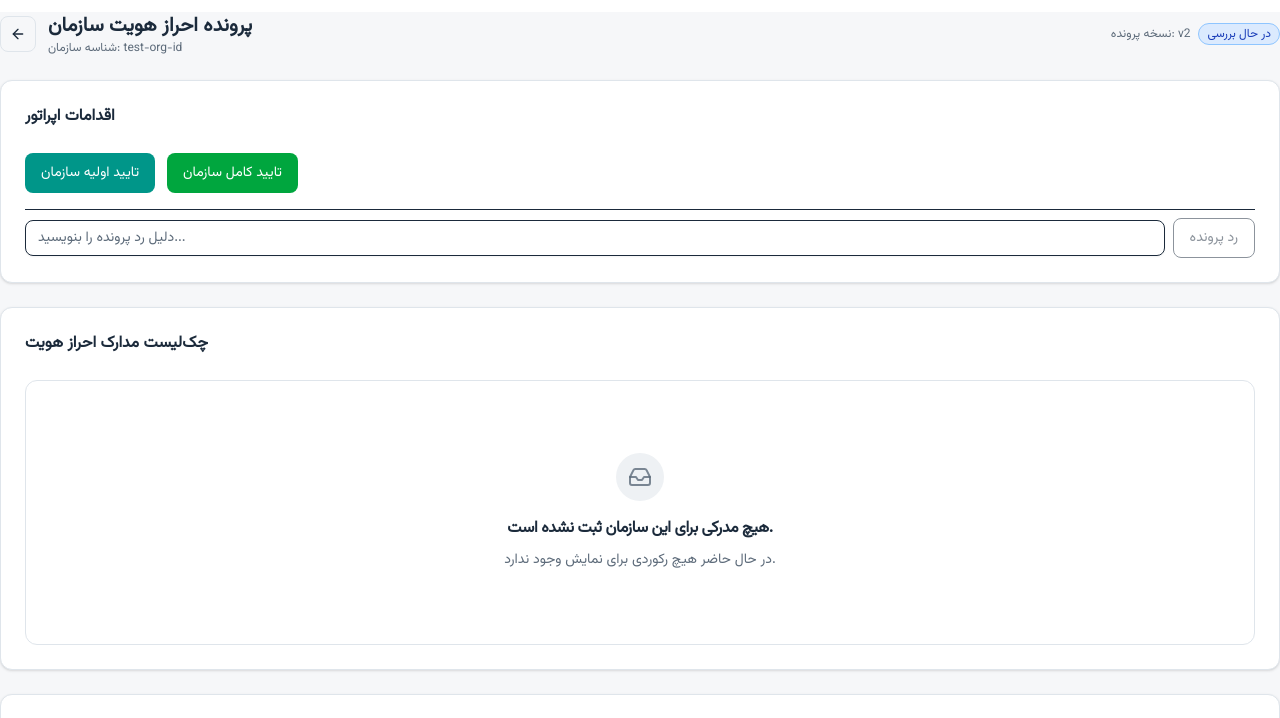
Test case: Verification Operator & Evidence UI (Pass C) › handles 409 stale conflict by displaying Persian conflict notice and refetching
The width and height of the screenshot is (1280, 718).
Expected: the text "در حال بررسی" is shown, [1198, 23, 1279, 45]
Expected: the button "رد پرونده" is disabled, [1173, 218, 1255, 258]
Type "مدارک ناقص است" into the field with placeholder "دلیل رد پرونده را بنویسید..." at point(595, 238), box [25, 220, 1165, 256]
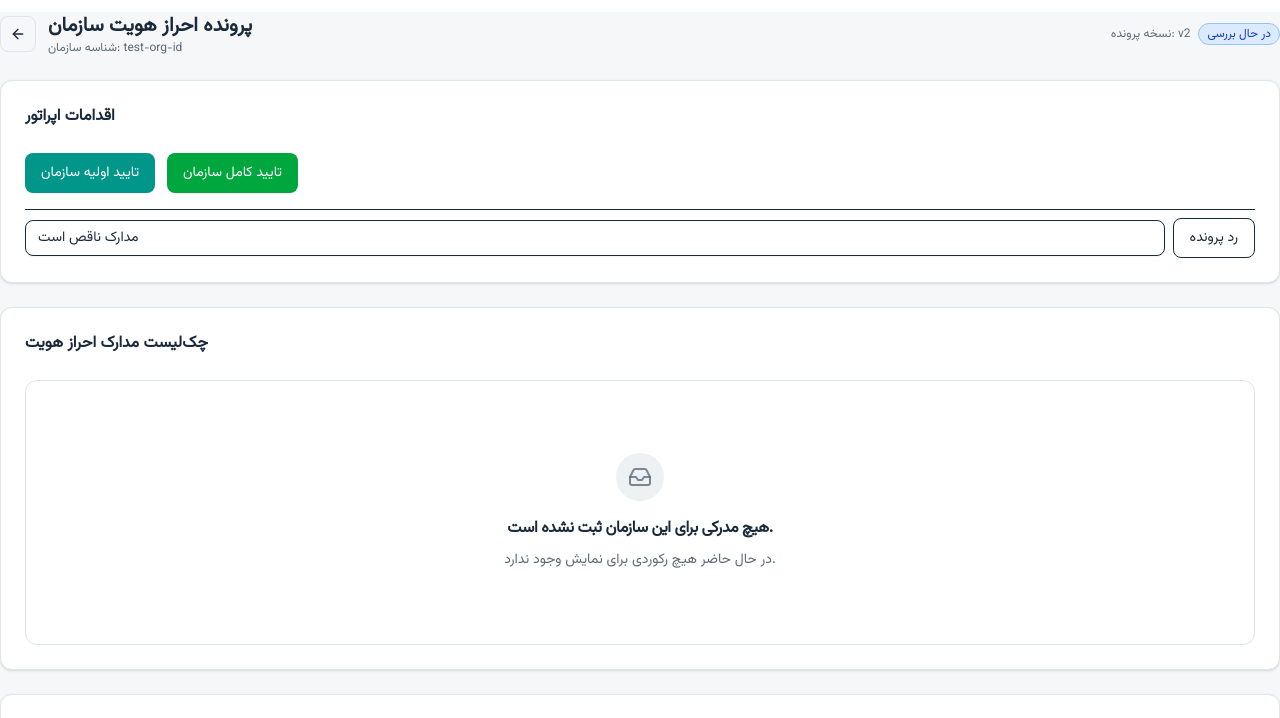
Now the button "رد پرونده" is enabled
Click the button "رد پرونده" at point(1214, 238), box [1173, 218, 1255, 258]
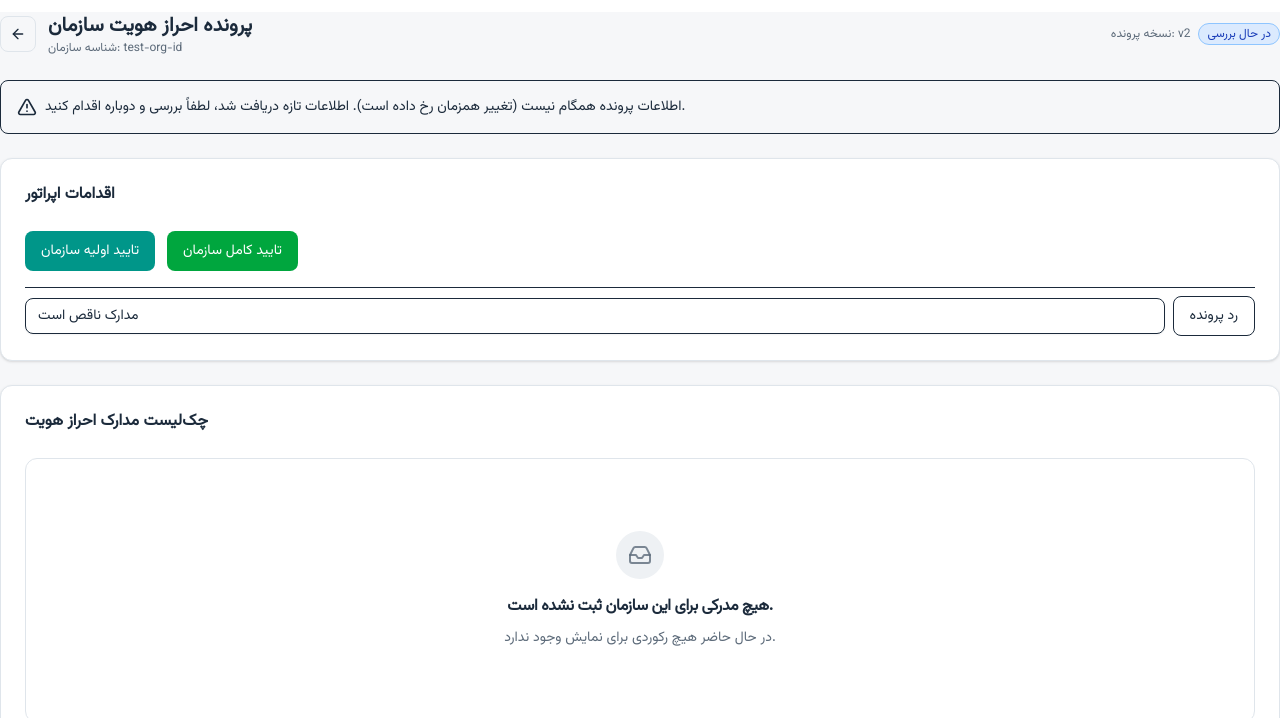
Now the text "اطلاعات پرونده همگام نیست (تغییر همزمان رخ داده است)" is shown, box [45, 96, 685, 118]
